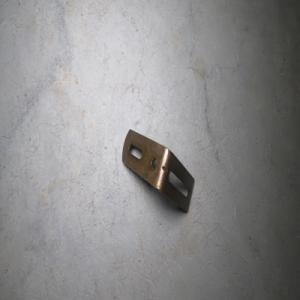MetalPart: (120, 128, 195, 214)
